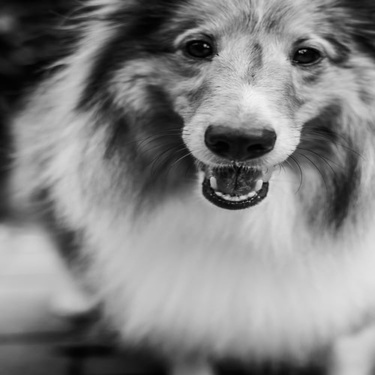dog: (4, 2, 369, 370)
